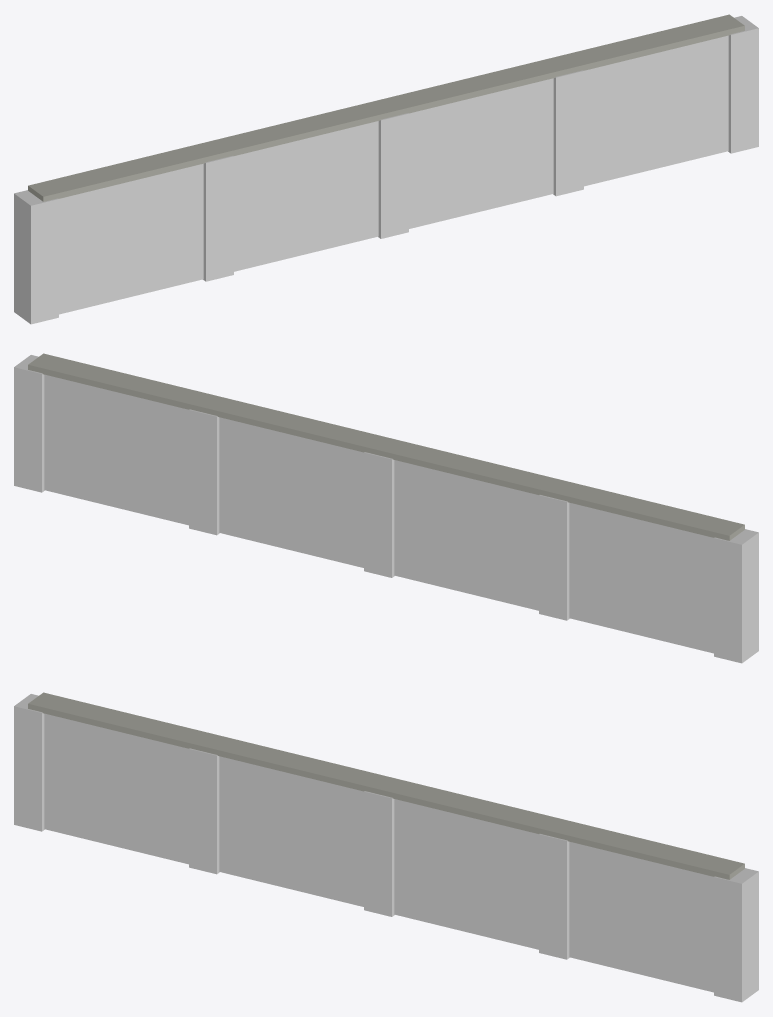
Rendered from SM_Tapia_v0_Encalada_LOD0.fbx.
3 renders of one model, top to bottom at view 1: azimuth 30°, elevation 25°; view 2: azimuth 150°, elevation 25°; view 3: azimuth 330°, elevation 25°, orthographic.
Visible parts, largest first — view 1: SM_huerta_nules_v5_LOD0; view 2: SM_huerta_nules_v5_LOD0; view 3: SM_huerta_nules_v5_LOD0.
Part boxes in pixels (box(x1,y1,x2,y2)): SM_huerta_nules_v5_LOD0: box(14, 14, 758, 324); SM_huerta_nules_v5_LOD0: box(14, 353, 758, 663); SM_huerta_nules_v5_LOD0: box(14, 692, 758, 1002).
Size of the model in its own units: 10.4 by 1.69 by 0.42.
